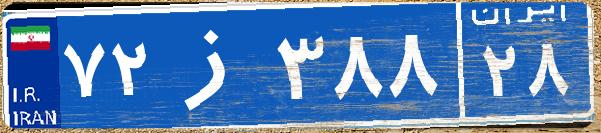2: (475, 38, 525, 113), (110, 28, 158, 105)
3: (273, 28, 330, 110)
7: (57, 26, 110, 107)
8: (385, 28, 445, 110), (330, 28, 385, 110), (525, 38, 570, 115)
ز: (158, 15, 273, 115)
